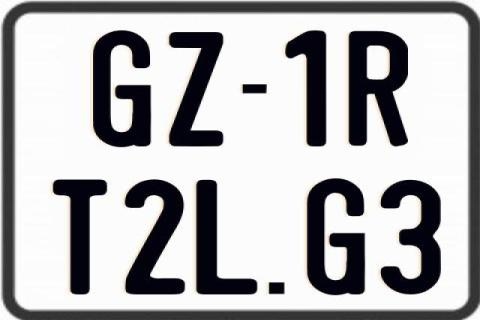0: (380, 177, 440, 297), (122, 178, 182, 296), (285, 28, 331, 144)
G: (306, 177, 365, 297), (92, 30, 151, 148)
L: (194, 178, 256, 294)
R: (346, 31, 406, 146)
T: (52, 178, 111, 294)
Z: (169, 31, 225, 149)
